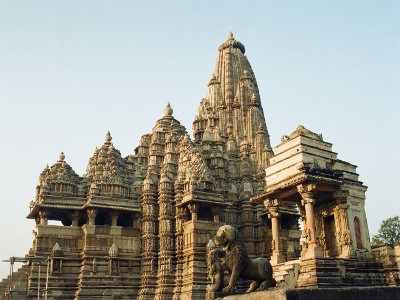amalaka: (205, 37, 264, 57)
gopuram: (200, 51, 276, 154)
mandapa: (16, 194, 143, 243), (176, 189, 233, 229)
